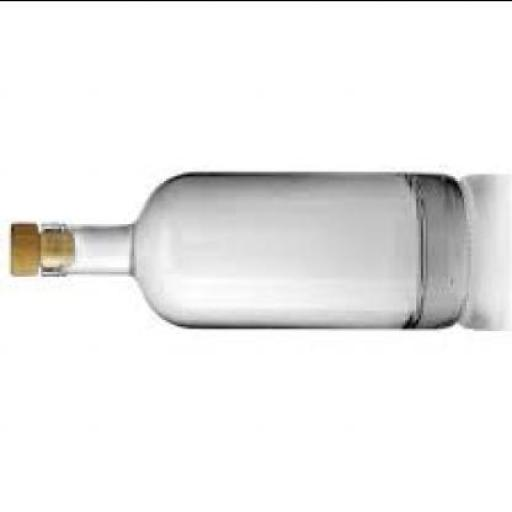glass: (38, 168, 467, 326)
